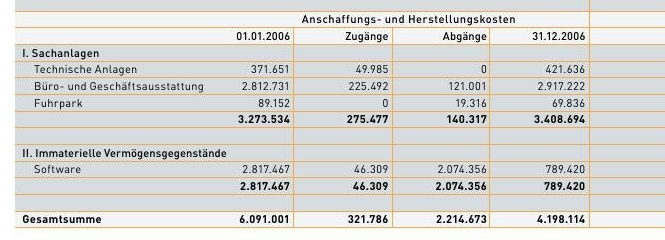table: (0, 0, 665, 240)
